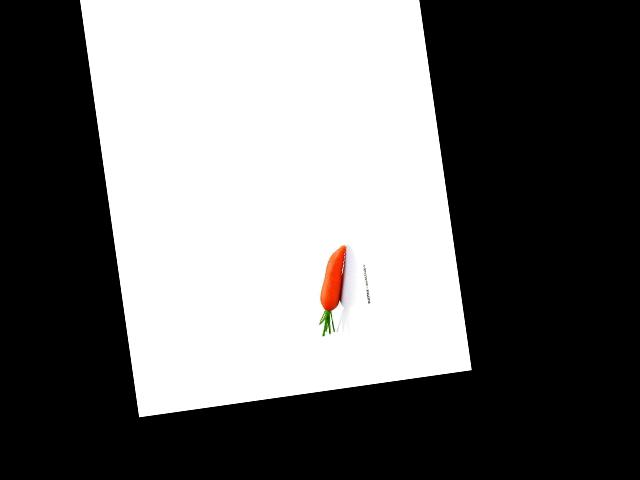carrot: (310, 240, 356, 320)
